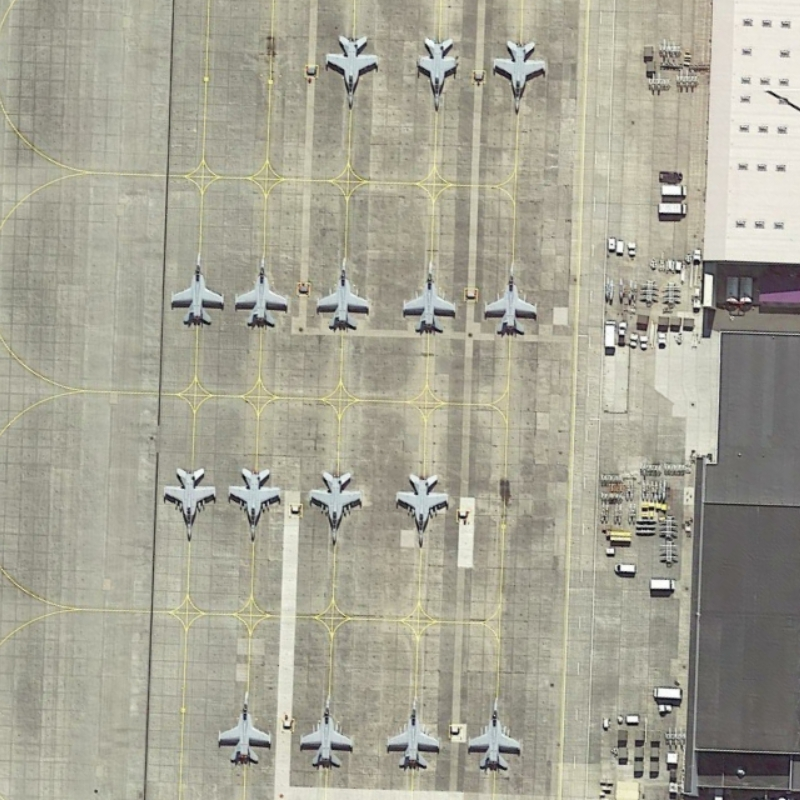A16: (487, 26, 559, 126), (388, 465, 458, 558), (289, 685, 360, 772), (377, 688, 447, 776), (211, 677, 277, 770), (160, 242, 226, 334), (300, 466, 370, 551), (230, 244, 293, 338), (476, 253, 541, 344), (405, 25, 467, 120), (321, 27, 387, 116), (395, 252, 463, 336), (461, 691, 525, 778), (160, 455, 219, 549), (310, 250, 376, 334), (221, 461, 282, 550)
